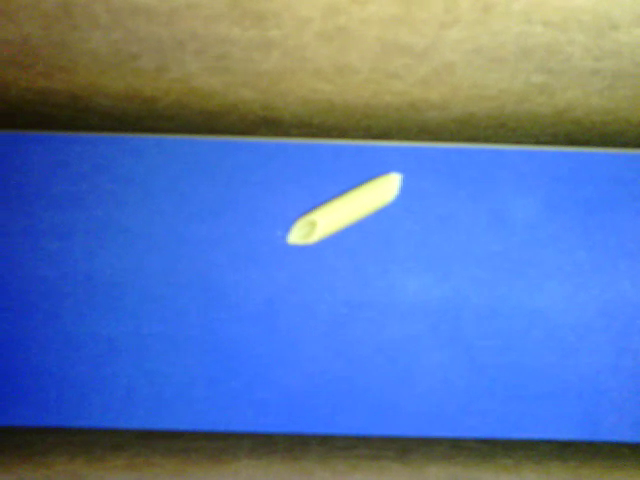penne: (285, 170, 403, 247)
